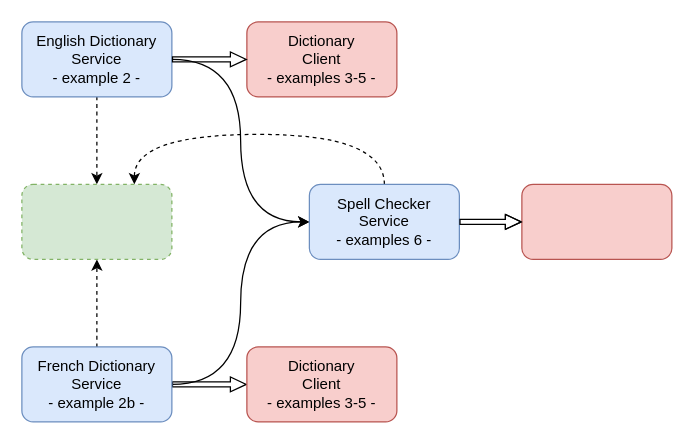
Image size: 694x444. Some labels were removed from this diagram. The shapes that lost their labels are listed below. From the top down, each one's box as (x1, y1, x2, y2) in pixels, then its label:
(21, 183, 172, 259): Service Listener - example 1 -
(521, 183, 672, 259): Spell Checker Client - example 7 -
